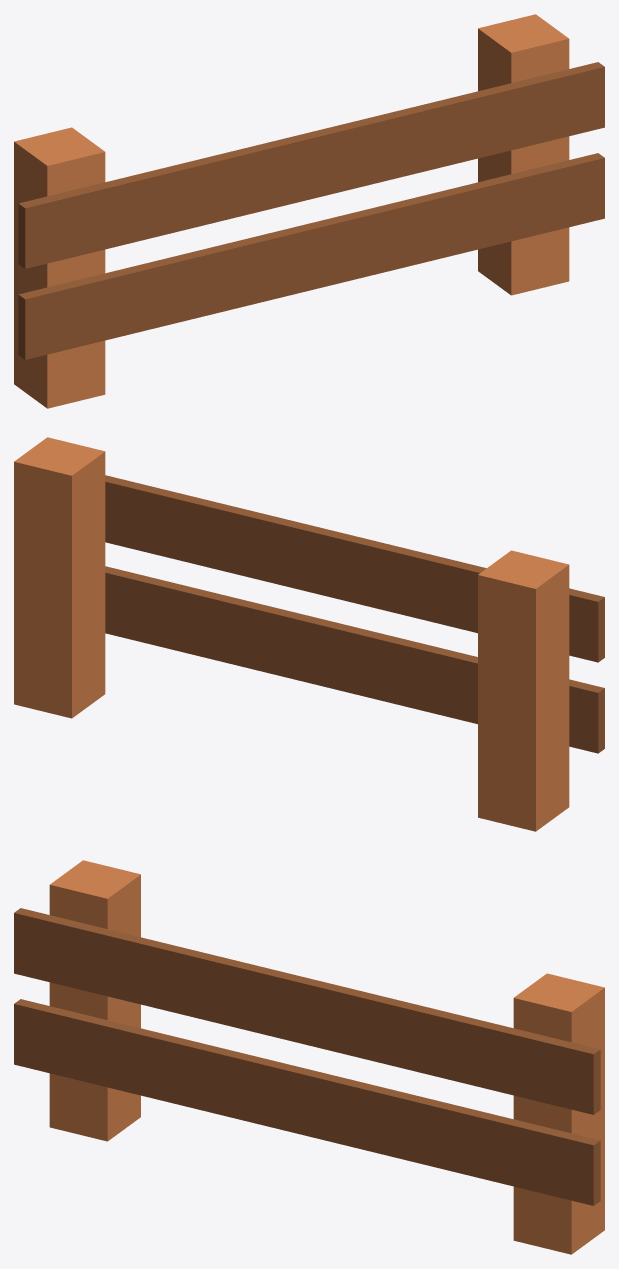
The model's file is fence.obj.
3 views of the same model, one above another, from view 1: azimuth 30°, elevation 25°; view 2: azimuth 150°, elevation 25°; view 3: azimuth 330°, elevation 25° (orthographic).
Visible parts, largest first — view 1: fence; view 2: fence; view 3: fence.
Boxes of the visible parts, x1,y1,x2,y2 form: fence: (14,14,604,408); fence: (14,437,604,831); fence: (14,860,604,1254).
Size of the model in its own units: 1 by 0.4 by 0.12.
